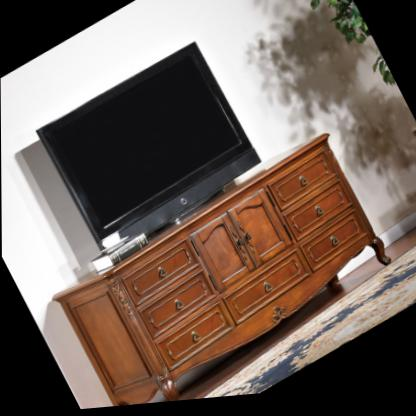Sideboard: (53, 139, 391, 407)
